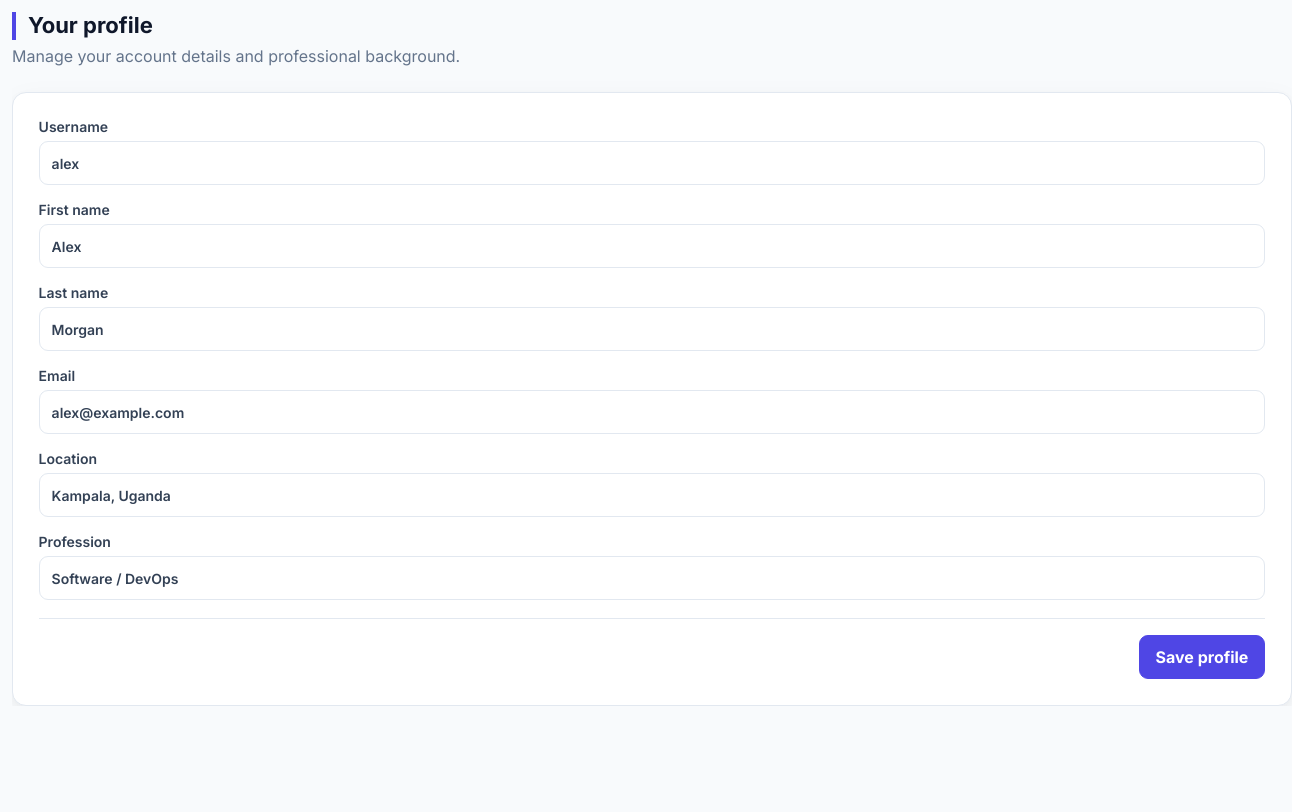
Test: ProfilePage › loads and saves personal details and profession
expect the field labelled "First name" holds "Alex": met, box 39,224 -> 1265,268
expect the field labelled "Last name" holds "Morgan": met, box 39,307 -> 1265,351
Replace the text in the field labelled "Location" with "Entebbe, Uganda" at (652, 495), box 39,473 -> 1265,517
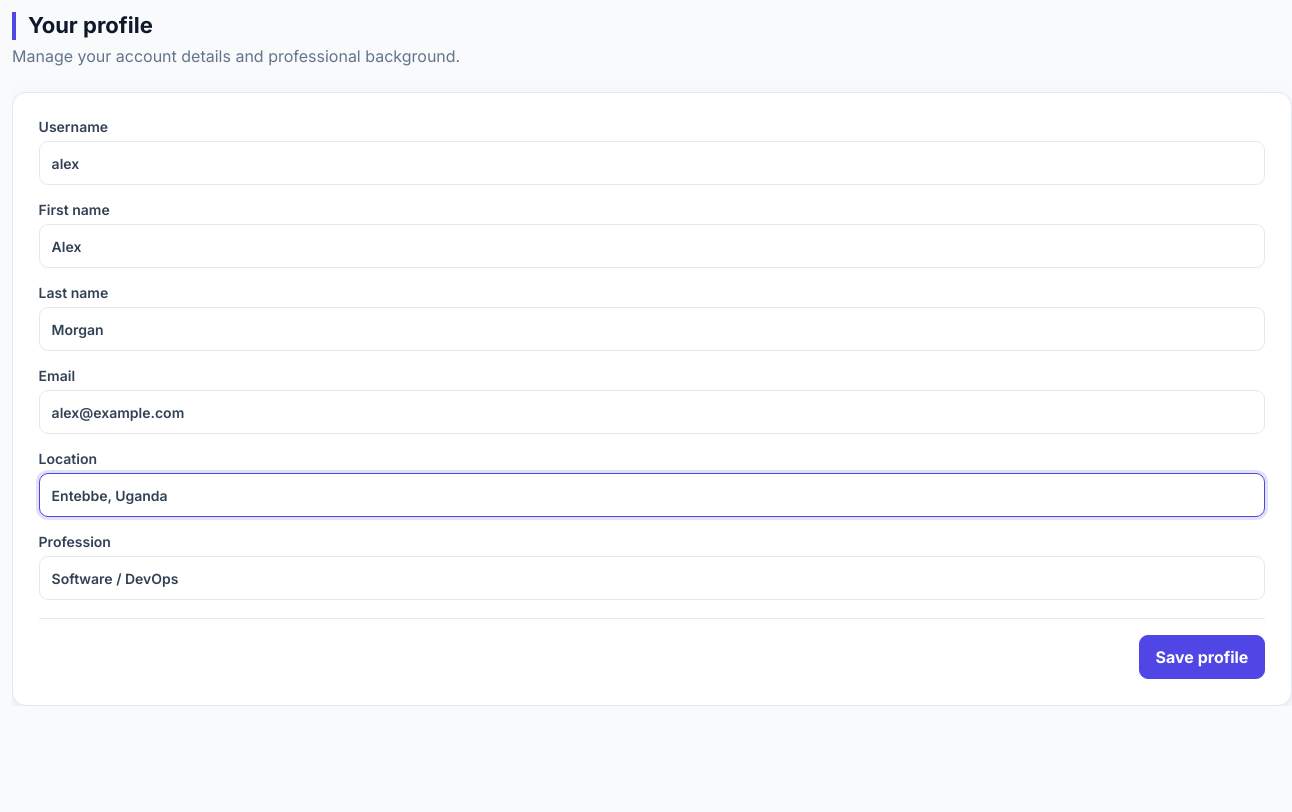
Click the button "Save profile" at (1202, 657), box 1139,635 -> 1265,679
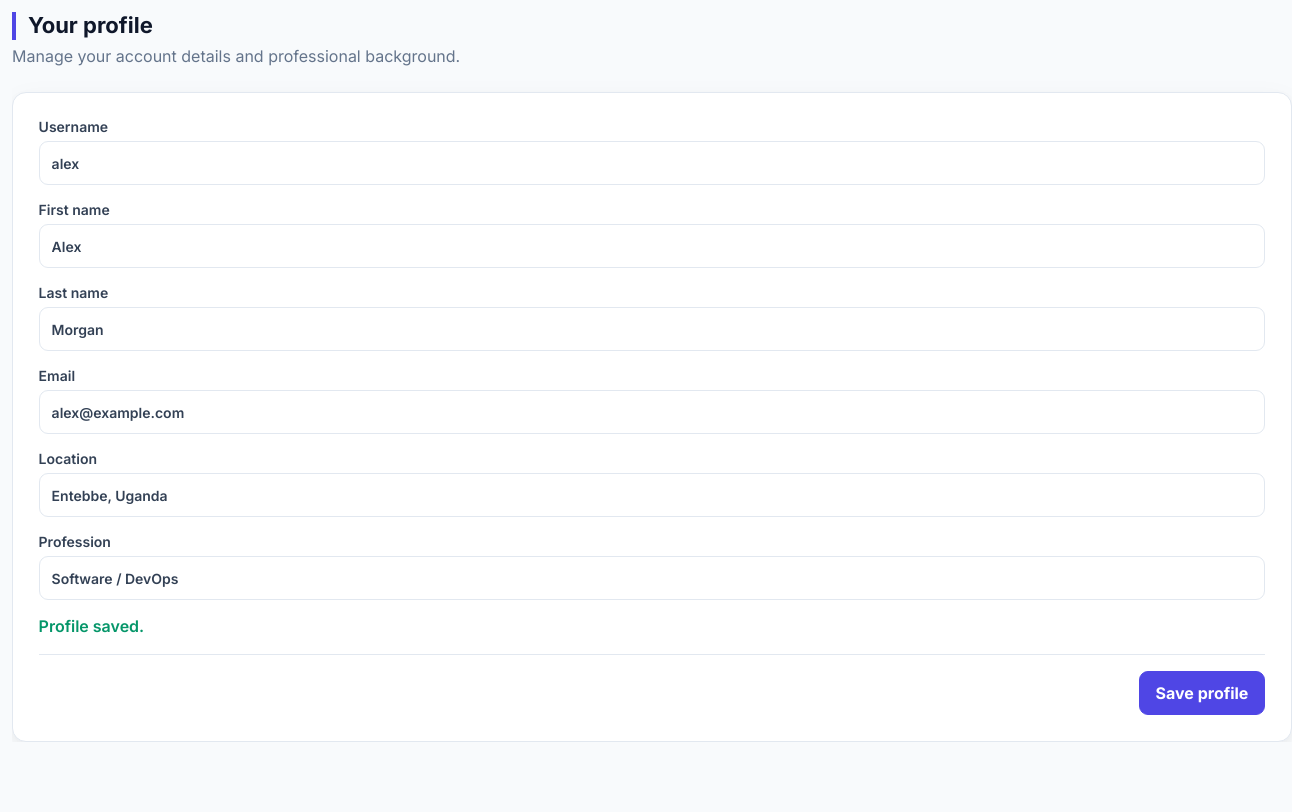
expect the message reads "Profile saved.": met, box 39,616 -> 144,636
